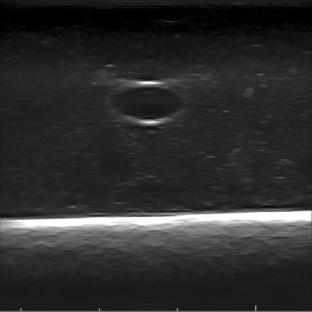vessel: (106, 82, 184, 128)
